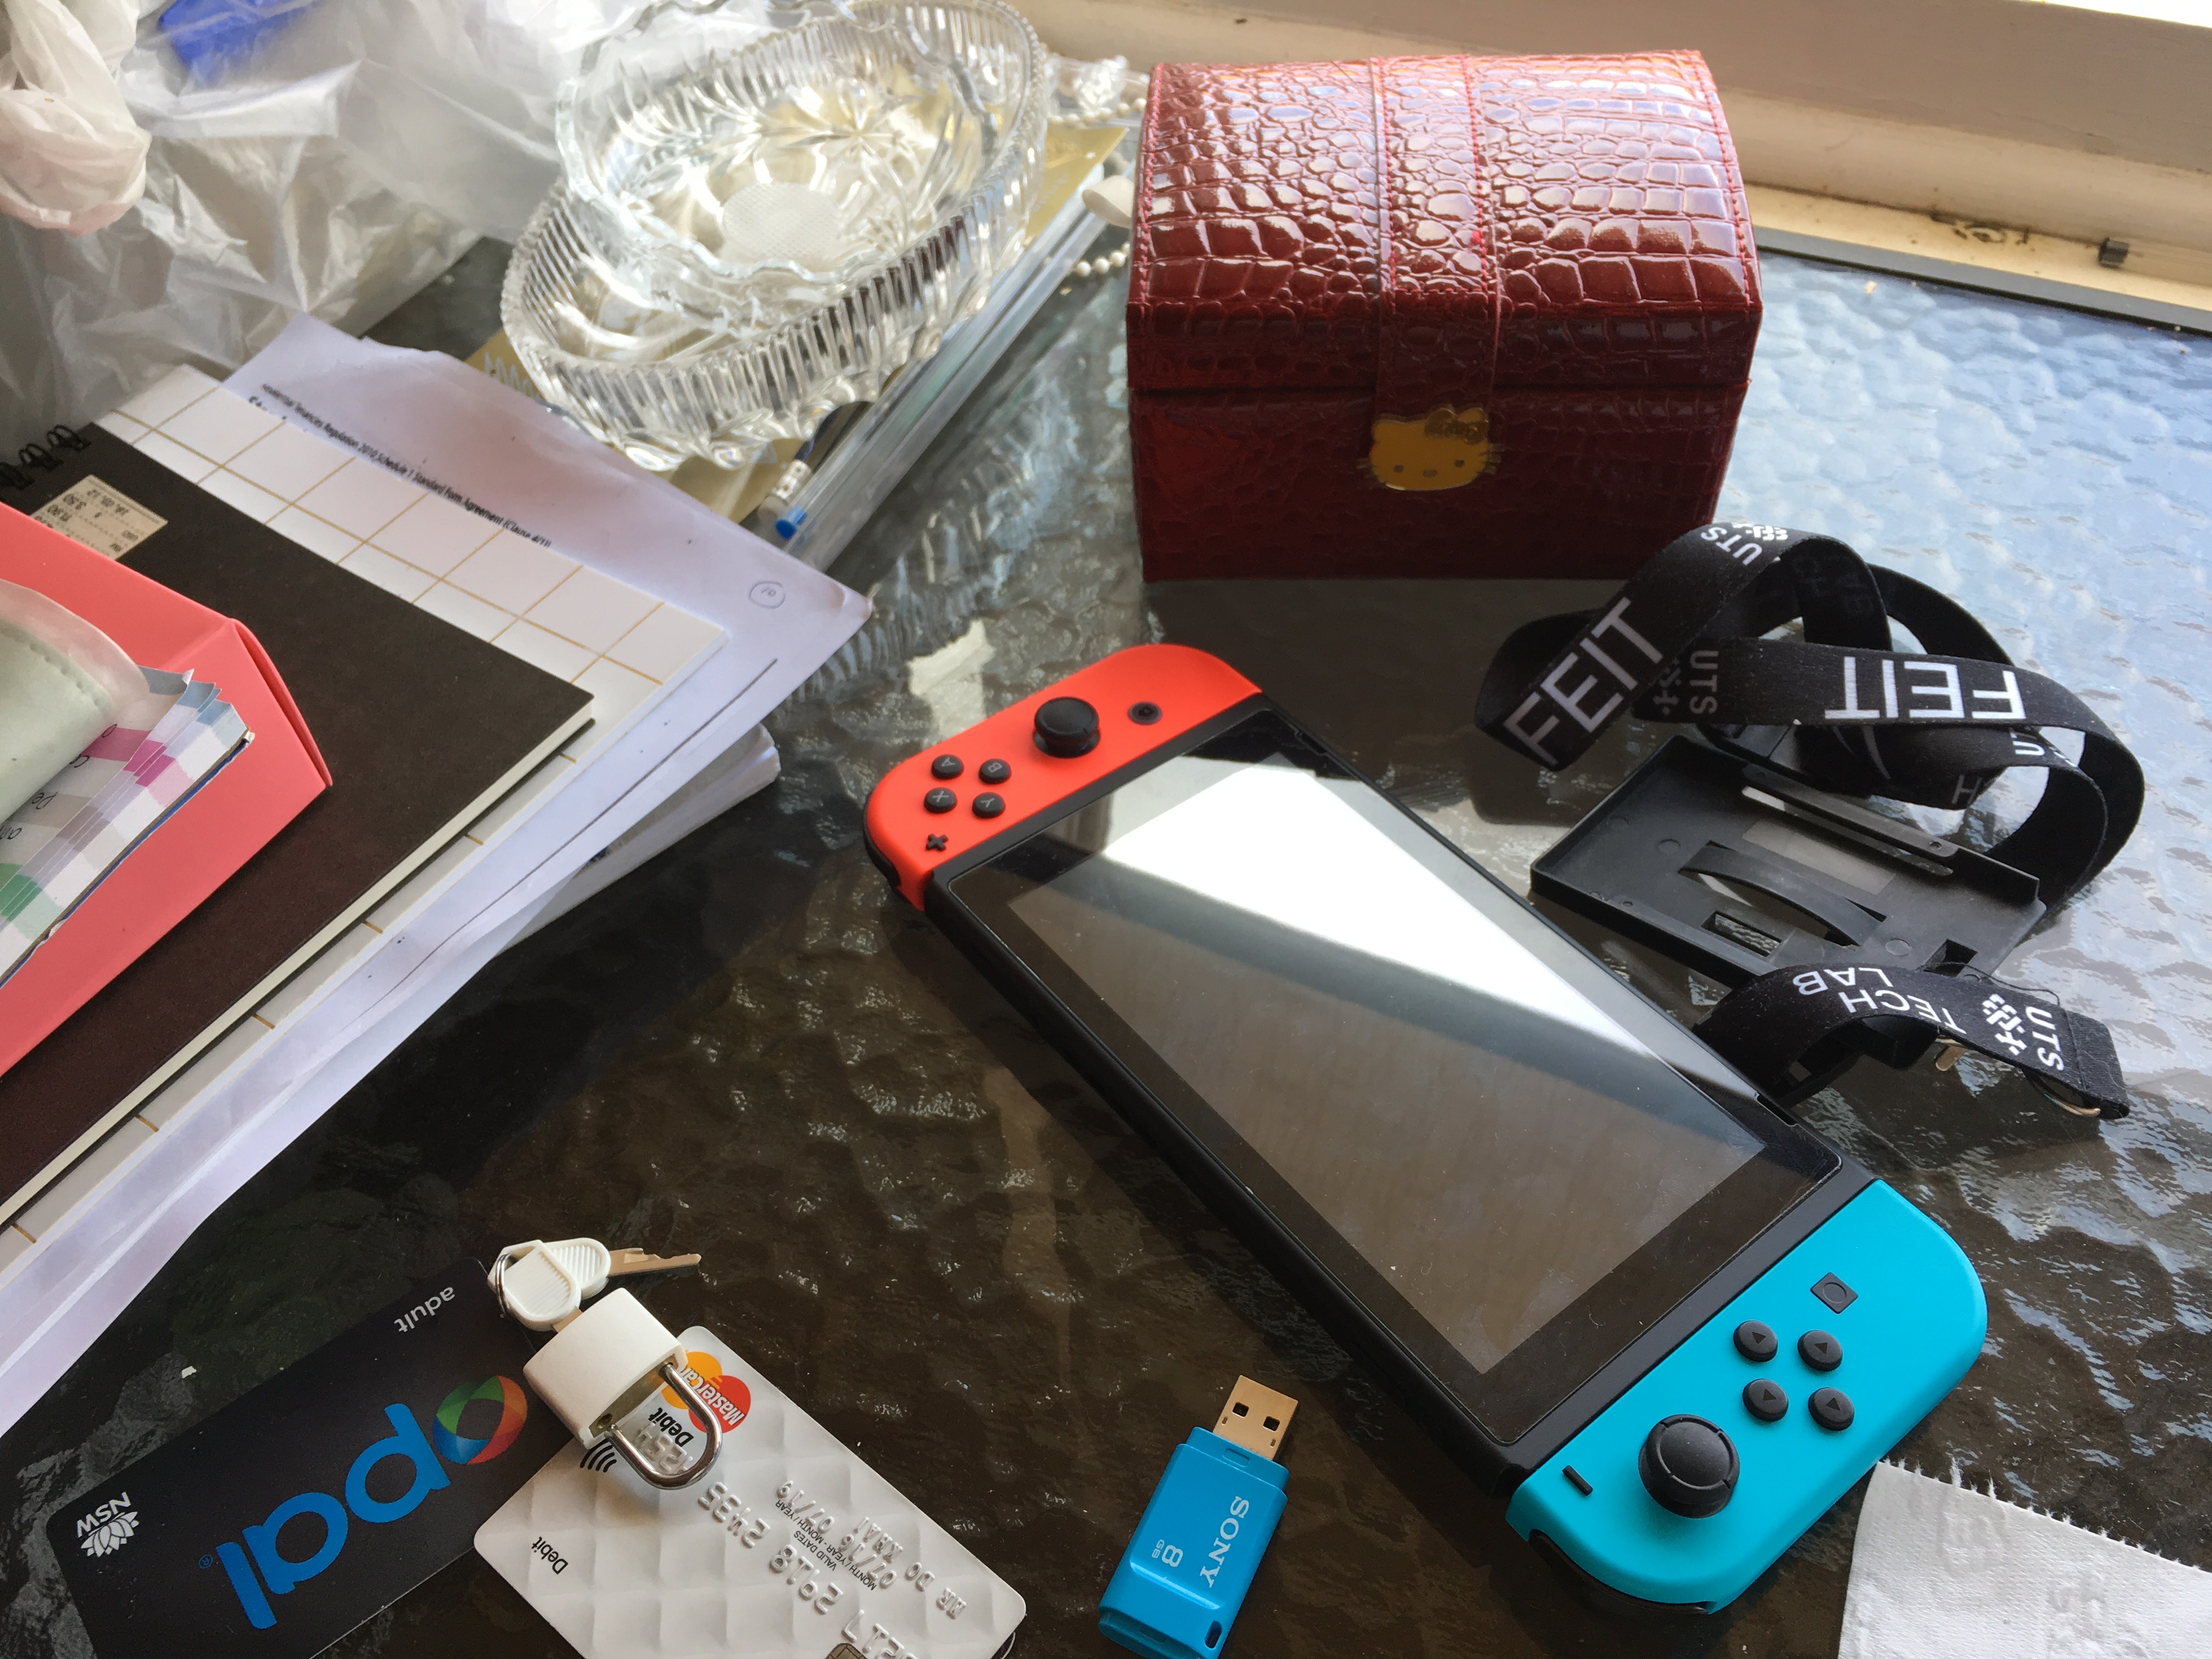NintendoSwitch: (853, 631, 2005, 1633)
